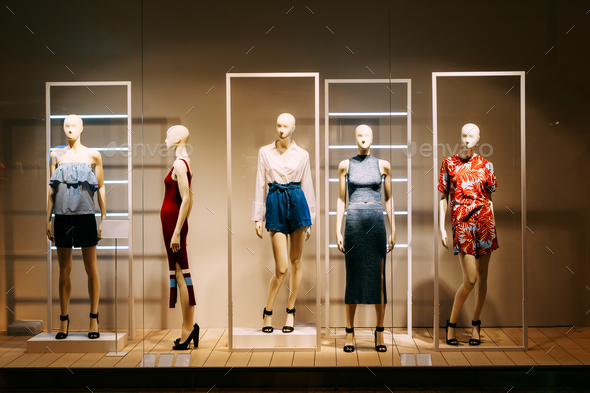person-like: (248, 107, 319, 337), (40, 111, 111, 340), (434, 118, 503, 348), (334, 122, 399, 357), (156, 120, 204, 352)
